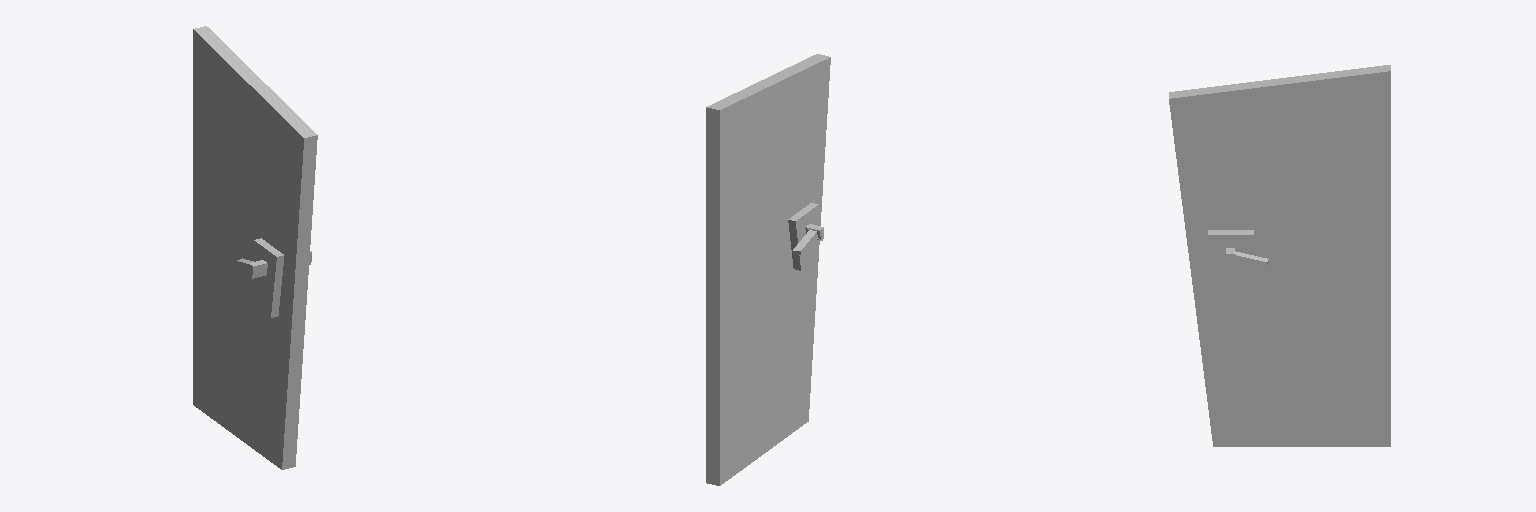
Rendered from ASSET_porte_v2.obj.
3 renders of one model, left to right at view 1: azimuth 30°, elevation 25°; view 2: azimuth 150°, elevation 25°; view 3: azimuth 270°, elevation 25°, orthographic.
Visible parts, largest first — view 1: PORTE_Plane.008; view 2: PORTE_Plane.008; view 3: PORTE_Plane.008.
Part boxes in pixels (bbox=[...]): PORTE_Plane.008: bbox=[193, 26, 317, 469]; PORTE_Plane.008: bbox=[706, 54, 830, 485]; PORTE_Plane.008: bbox=[1169, 65, 1390, 446].
Bounding box in the file's own units: 0.8115 × 4.93 × 2.64.